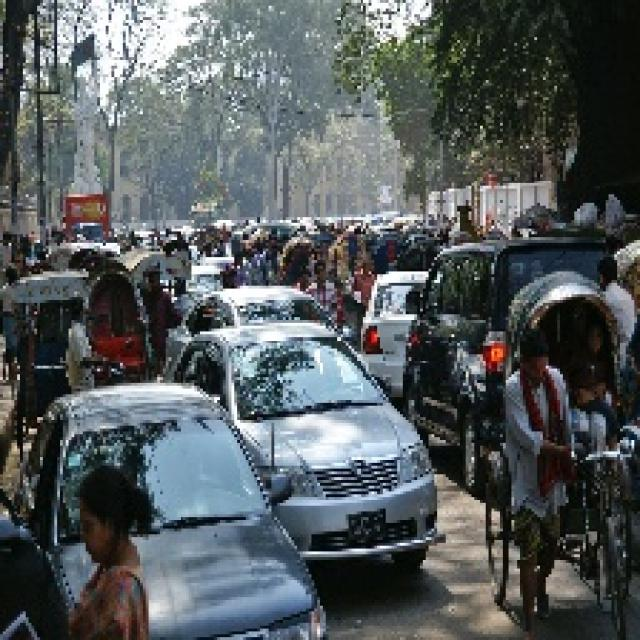car: (21, 402, 320, 634), (204, 325, 446, 572)
rickshaw: (502, 270, 635, 601), (74, 268, 161, 392)
